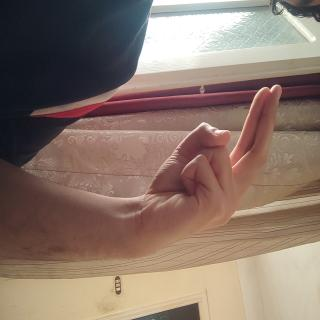ZAY: (60, 44, 198, 262)
